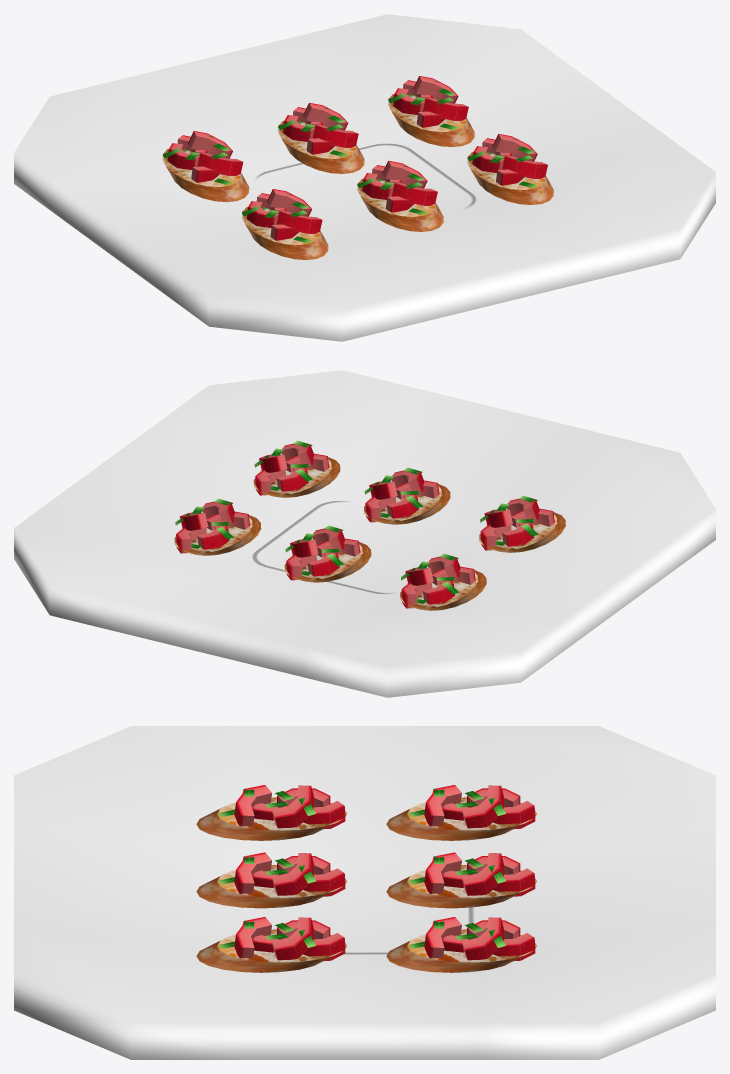
File: BruschettaTomatoBasil.fbx
3 renders of one model, top to bottom at view 1: azimuth 30°, elevation 25°; view 2: azimuth 150°, elevation 25°; view 3: azimuth 270°, elevation 25°, orthographic. The views are drawn at different scales.
Visible parts, largest first — view 1: Brushetta7; view 2: Brushetta7; view 3: Brushetta7.
Boxes of the visible parts, x1=… form: Brushetta7: x1=14, y1=14, x2=715, y2=341; Brushetta7: x1=14, y1=370, x2=715, y2=697; Brushetta7: x1=14, y1=726, x2=715, y2=1059.
Bounding box in the file's own units: 40.64 × 4.73 × 40.64.
Materials: 4 (4 with a texture image).
